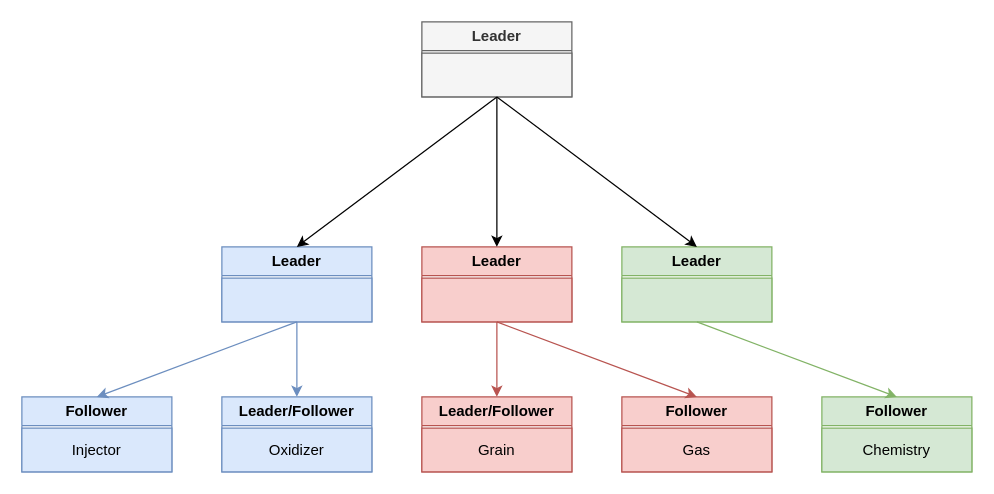
The diagram is 994 pixels wide and 494 high, and some of its shapes have lost their labels. The shapes that lost their labels are listed below. From the top down, each one's box as (x1, y1, x2, y2) in pixels, then its label:
(421, 52, 572, 97): Motor
(221, 277, 372, 322): Tank
(421, 277, 572, 322): Chamber
(621, 277, 772, 322): Nozzle
